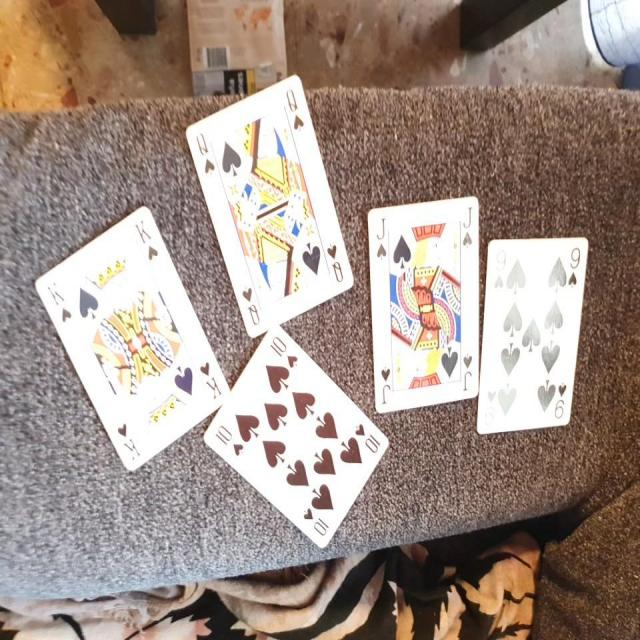10 Spades: (198, 321, 392, 552)
9 Spades: (474, 229, 586, 450)
J Spades: (362, 186, 483, 421)
K Spades: (28, 194, 233, 476)
Q Spades: (184, 65, 361, 340)
